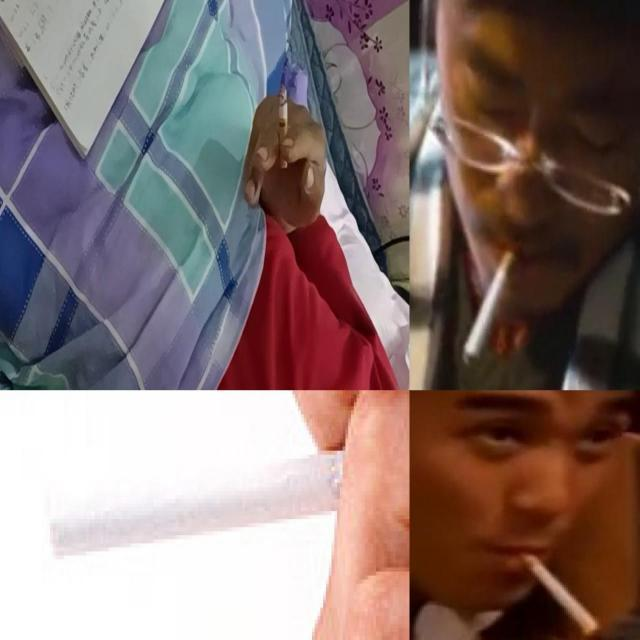smoke: (49, 430, 409, 561), (457, 234, 519, 366), (516, 550, 602, 636), (278, 83, 288, 170)
